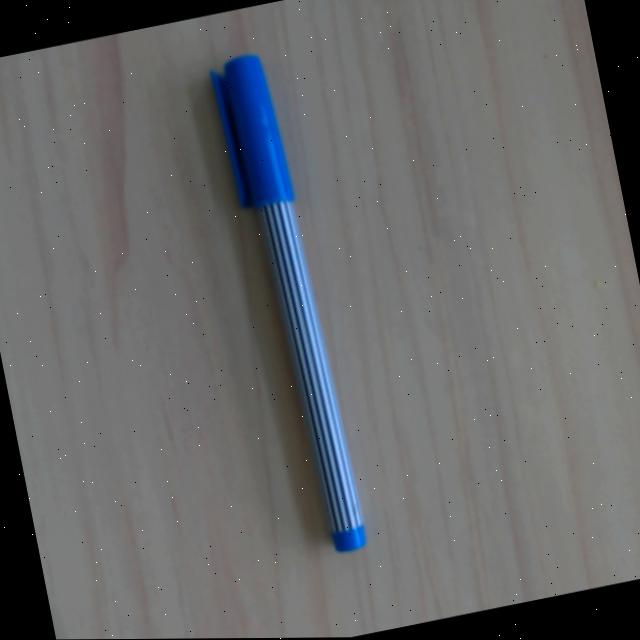Pulpen-Garis-Biru: (207, 51, 379, 555)
